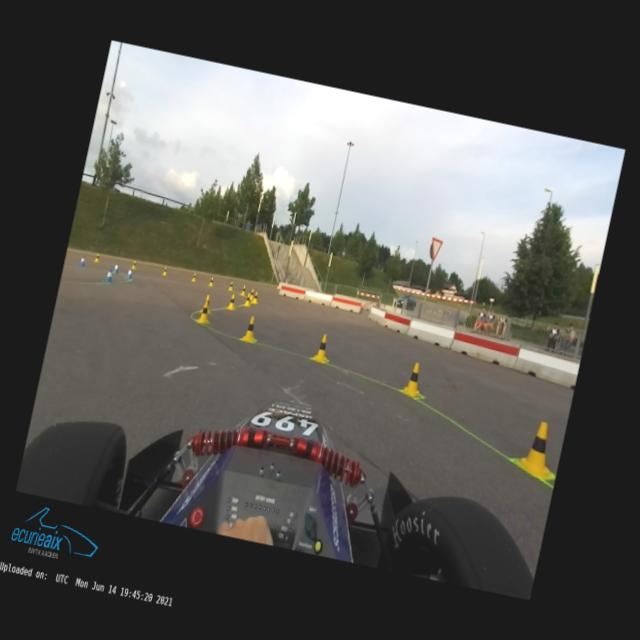blue_cone: (104, 267, 114, 282), (112, 261, 120, 273), (125, 268, 133, 280), (78, 256, 85, 266)
yellow_cone: (514, 417, 562, 479), (402, 360, 428, 398), (313, 332, 332, 362), (240, 314, 260, 342), (196, 300, 212, 324), (200, 294, 212, 314), (226, 292, 237, 310), (243, 292, 252, 306), (252, 291, 260, 303), (249, 288, 255, 300), (207, 276, 214, 286), (240, 284, 247, 294), (190, 272, 197, 282), (228, 280, 234, 290), (162, 266, 168, 276), (94, 252, 100, 262), (130, 260, 136, 269)
